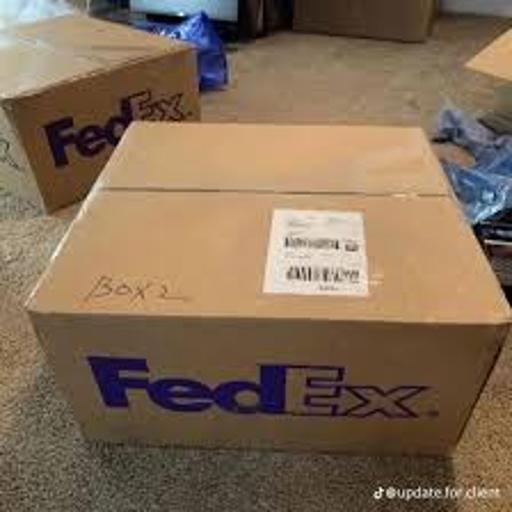FedEx: (37, 124, 500, 465), (2, 15, 214, 213)
